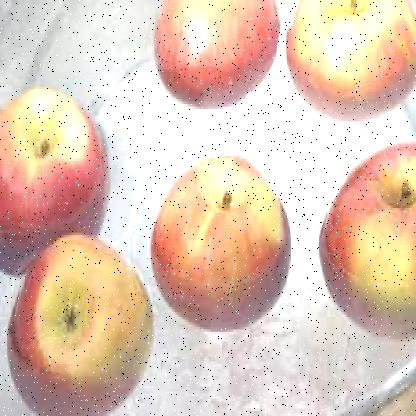apple: (14, 230, 148, 406), (155, 154, 292, 322), (318, 141, 414, 322), (5, 82, 106, 238), (288, 0, 412, 119), (152, 0, 282, 109)
